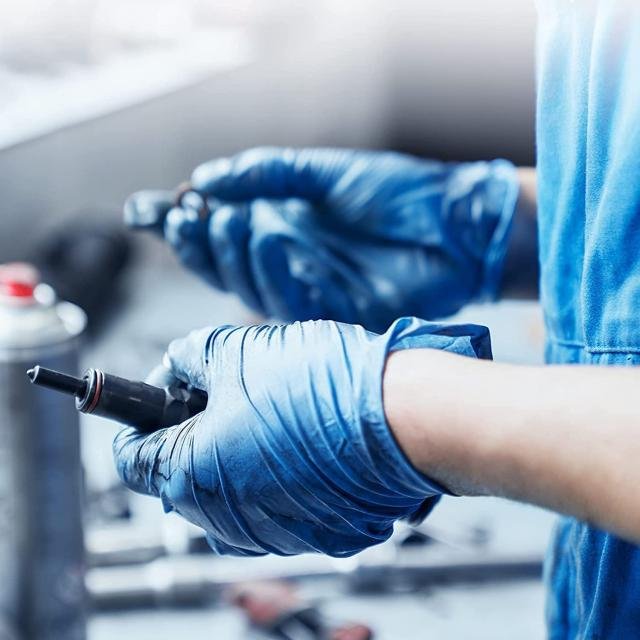gloves: (107, 316, 499, 554), (158, 148, 523, 337)
